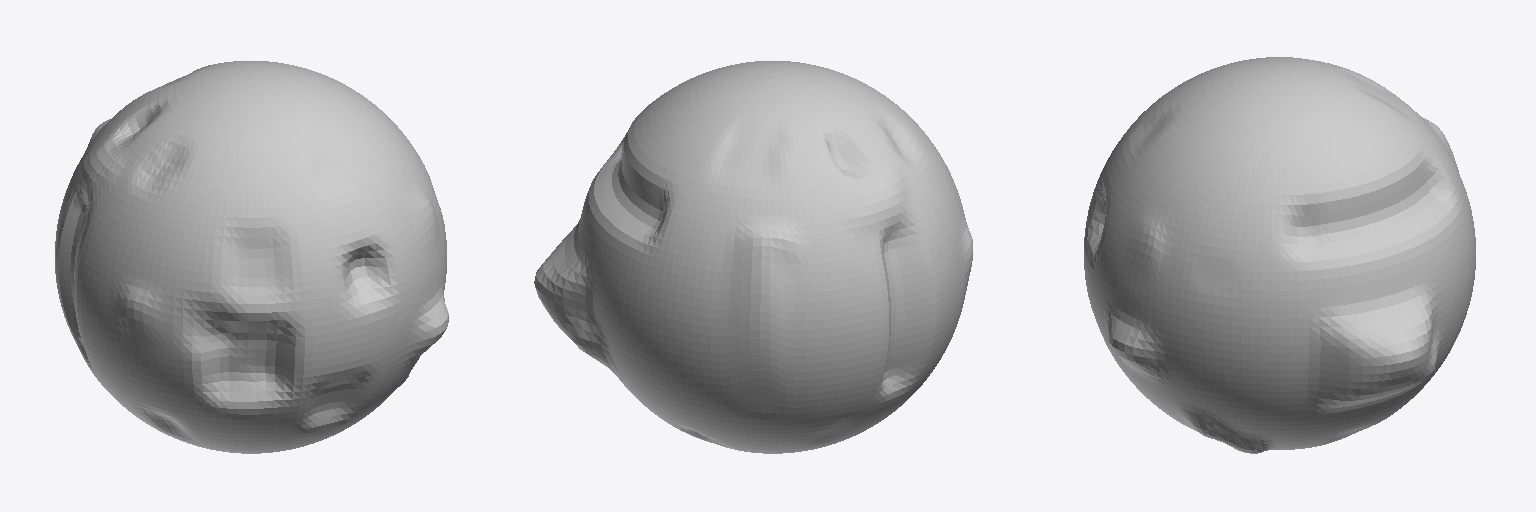
The model's file is bumpy-world-1.obj.
The picture shows the model from 3 angles: view 1: azimuth 30°, elevation 25°; view 2: azimuth 150°, elevation 25°; view 3: azimuth 270°, elevation 25°; orthographic projection.
Visible parts, largest first — view 1: Sphere; view 2: Sphere; view 3: Sphere.
Part boxes in pixels (x1,y1,x2,y2): Sphere: (55, 61, 448, 453); Sphere: (534, 61, 972, 453); Sphere: (1084, 57, 1475, 453).
Size of the model in its own units: 10.26 by 10 by 9.97.